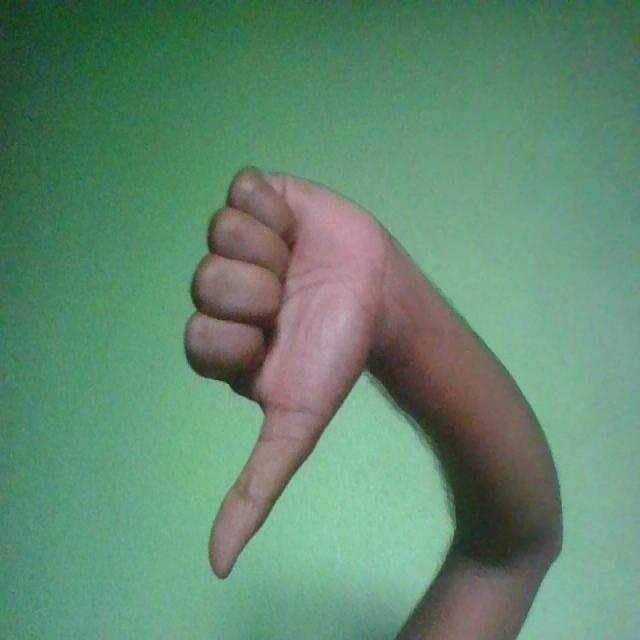Dislike: (184, 163, 385, 580)
